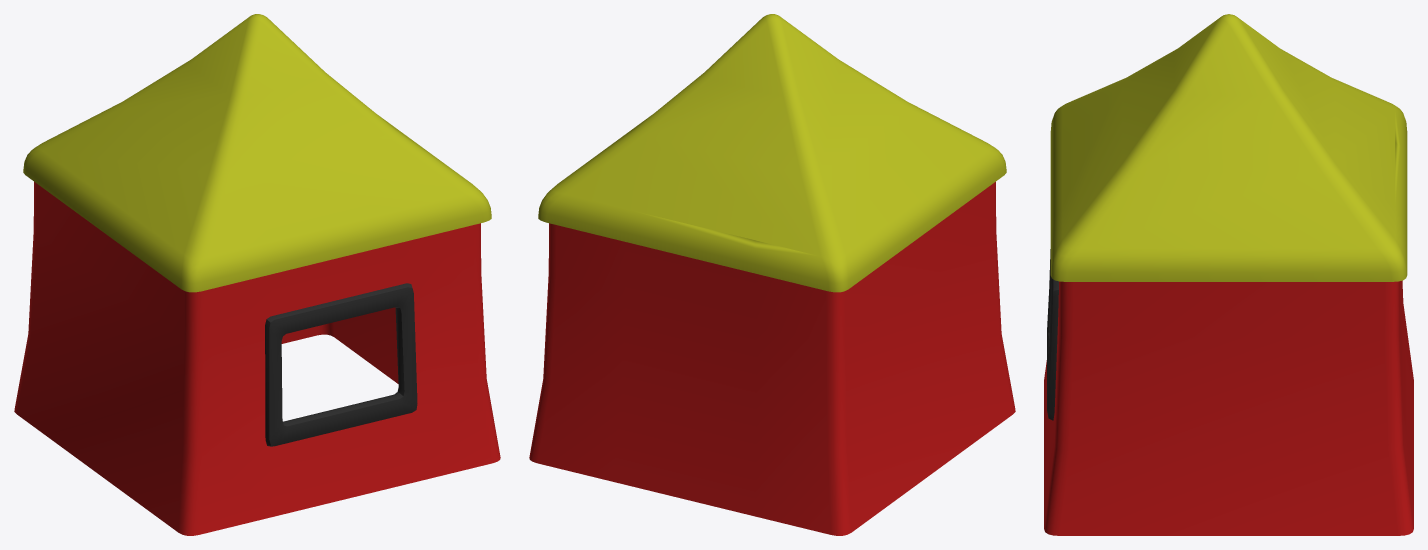
File: SM_hut_themepark.fbx
3 views of the same model, side by side, from view 1: azimuth 30°, elevation 25°; view 2: azimuth 150°, elevation 25°; view 3: azimuth 270°, elevation 25° (orthographic). The views are drawn at different scales.
Parts seen in each view (by area): view 1: Box300; view 2: Box300; view 3: Box300.
Boxes of the visible parts, x1=… form: Box300: x1=14, y1=14, x2=500, y2=535; Box300: x1=529, y1=14, x2=1015, y2=535; Box300: x1=1044, y1=14, x2=1413, y2=535.
Size of the model in its own units: 113 by 142 by 108.
